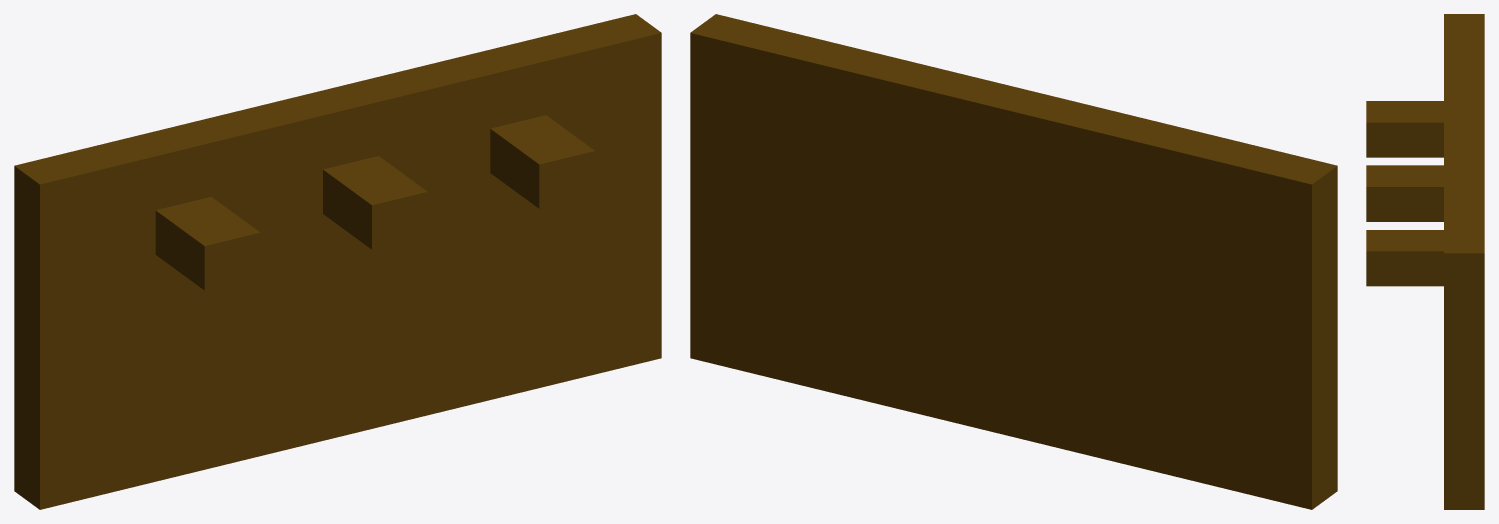
The model's file is mug_rack.glb.
3 renders of one model, left to right at view 1: azimuth 30°, elevation 25°; view 2: azimuth 150°, elevation 25°; view 3: azimuth 270°, elevation 25°, orthographic. The views are drawn at different scales.
Parts seen in each view (by area): view 1: Cube; view 2: Cube; view 3: Cube.
Part boxes in pixels (x1,y1,x2,y2): Cube: (14,14,661,509); Cube: (690,14,1337,509); Cube: (1366,14,1484,509).
Size of the model in its own units: 1 by 0.5 by 0.2084.
